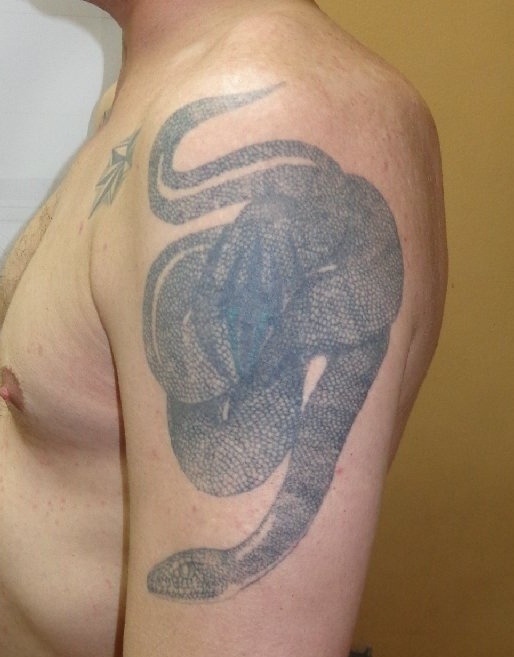tatu4_zvezda: (99, 126, 170, 197)
tatu7_zmeya: (137, 59, 514, 436)
